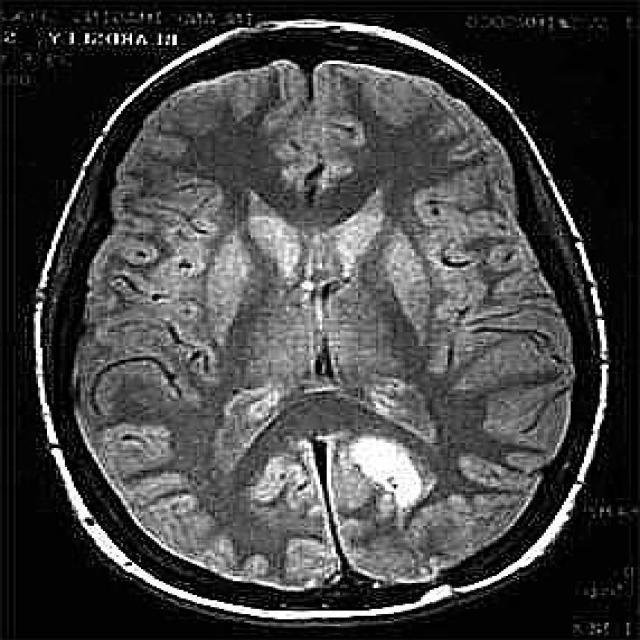Tumor-Cell: (312, 424, 454, 534)
